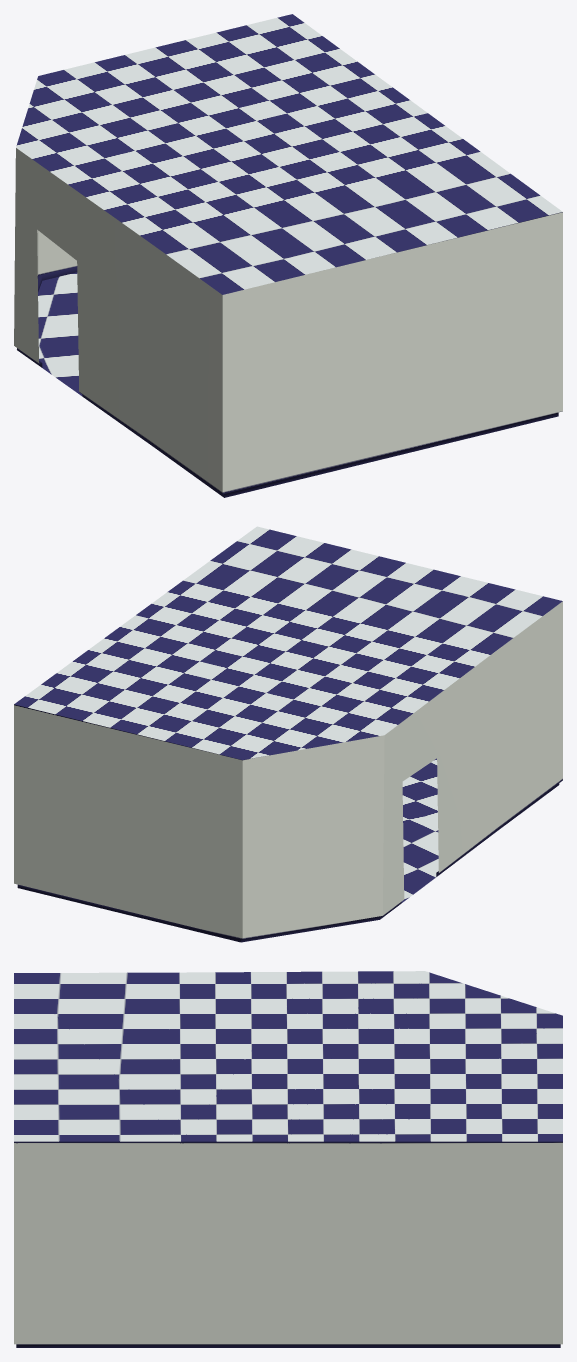
File: TherapyRoom.fbx
3 renders of one model, top to bottom at view 1: azimuth 30°, elevation 25°; view 2: azimuth 150°, elevation 25°; view 3: azimuth 270°, elevation 25°, orthographic. The views are drawn at different scales.
Visible parts, largest first — view 1: pCube1; view 2: pCube1; view 3: pCube1.
Boxes of the visible parts, box(x1,y1,x2,y2) form: pCube1: box(14, 14, 562, 497); pCube1: box(14, 526, 562, 942); pCube1: box(14, 971, 562, 1347).
Bounding box in the file's own units: 1945 × 1104 × 2644.
